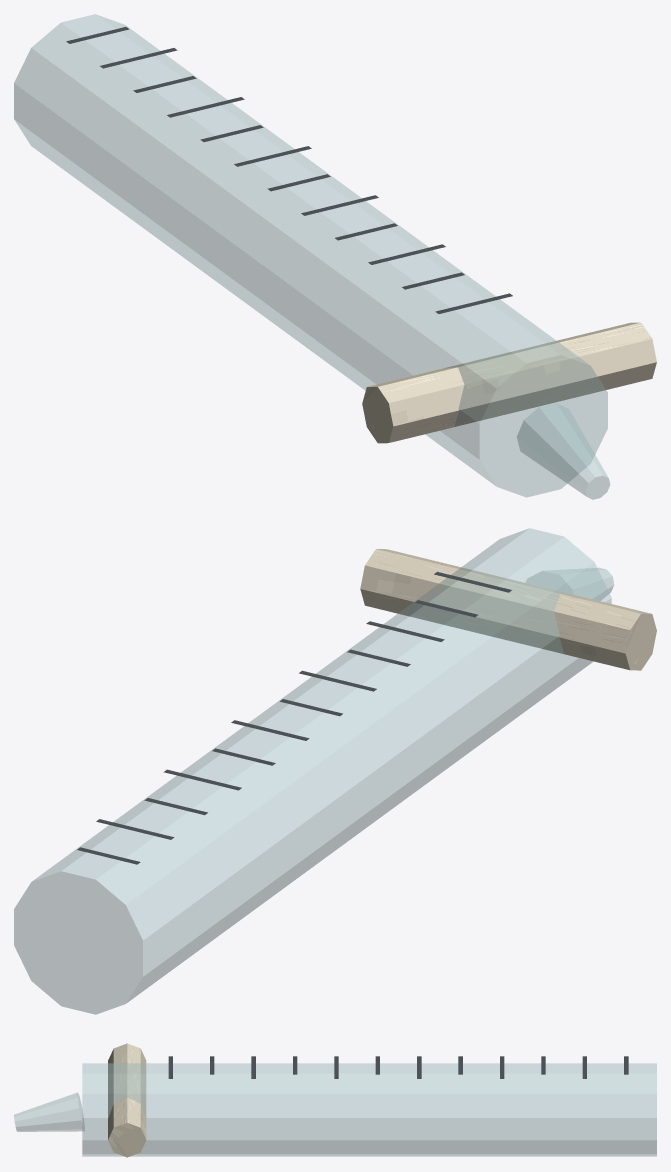
File: burette.glb
3 views of the same model, one above another, from view 1: azimuth 30°, elevation 25°; view 2: azimuth 150°, elevation 25°; view 3: azimuth 270°, elevation 25° (orthographic). The views are drawn at different scales.
Parts seen in each view (by area): view 1: block_graduated glass tube, block_stopcock handle, block_outlet tip; view 2: block_graduated glass tube, block_stopcock handle, block_outlet tip; view 3: block_graduated glass tube, block_stopcock handle, block_outlet tip.
Part boxes in pixels (bbox=[...]): block_graduated glass tube: bbox=[14, 14, 607, 497]; block_stopcock handle: bbox=[362, 322, 656, 443]; block_outlet tip: bbox=[517, 403, 610, 499]; block_graduated glass tube: bbox=[14, 528, 611, 1014]; block_stopcock handle: bbox=[360, 549, 656, 670]; block_outlet tip: bbox=[526, 567, 614, 600]; block_graduated glass tube: bbox=[82, 1063, 656, 1156]; block_stopcock handle: bbox=[108, 1043, 146, 1157]; block_outlet tip: bbox=[14, 1092, 84, 1131].
Size of the model in its own units: 0.0555 by 0.0275 by 0.19.
Materials: 2 (2 with a texture image).
